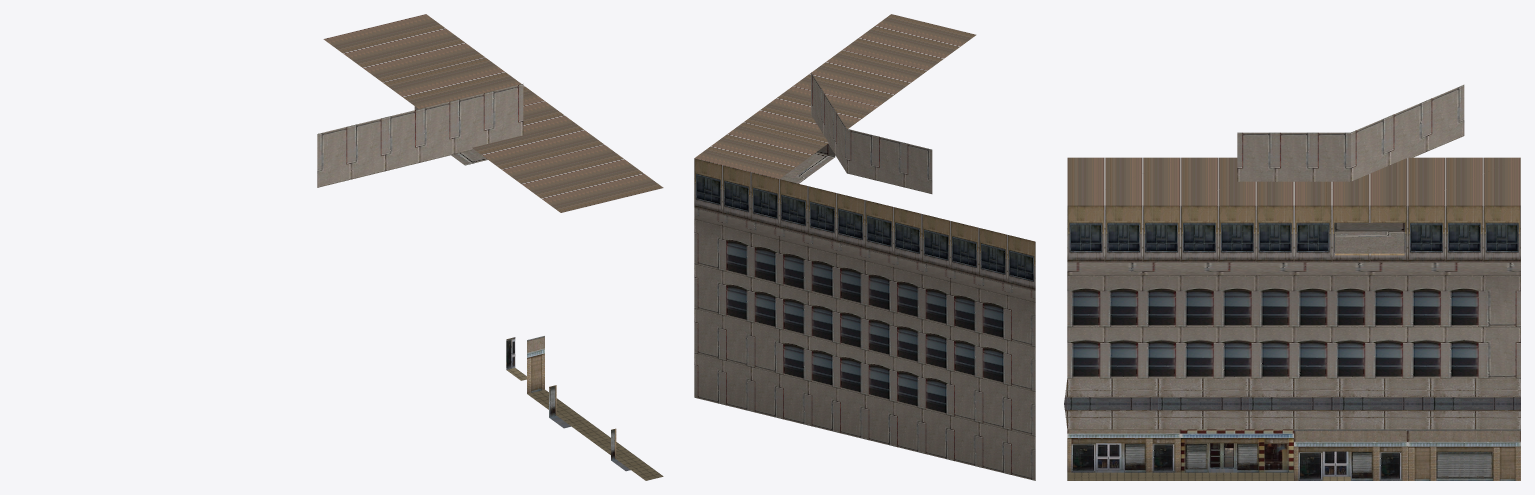
File: M2Zone4_Building09.glb
3 views of the same model, side by side, from view 1: azimuth 30°, elevation 25°; view 2: azimuth 150°, elevation 25°; view 3: azimuth 270°, elevation 25° (orthographic). The views are drawn at different scales.
Visible parts, largest first — view 1: M2ZONE4_BUILDING09; view 2: M2ZONE4_BUILDING09; view 3: M2ZONE4_BUILDING09.
Boxes of the visible parts, x1=… form: M2ZONE4_BUILDING09: x1=317, y1=14, x2=663, y2=480; M2ZONE4_BUILDING09: x1=694, y1=14, x2=1035, y2=480; M2ZONE4_BUILDING09: x1=1064, y1=85, x2=1520, y2=480.
Bounding box in the file's own units: 32 × 25.26 × 32.23.
Materials: 8 (8 with a texture image).
